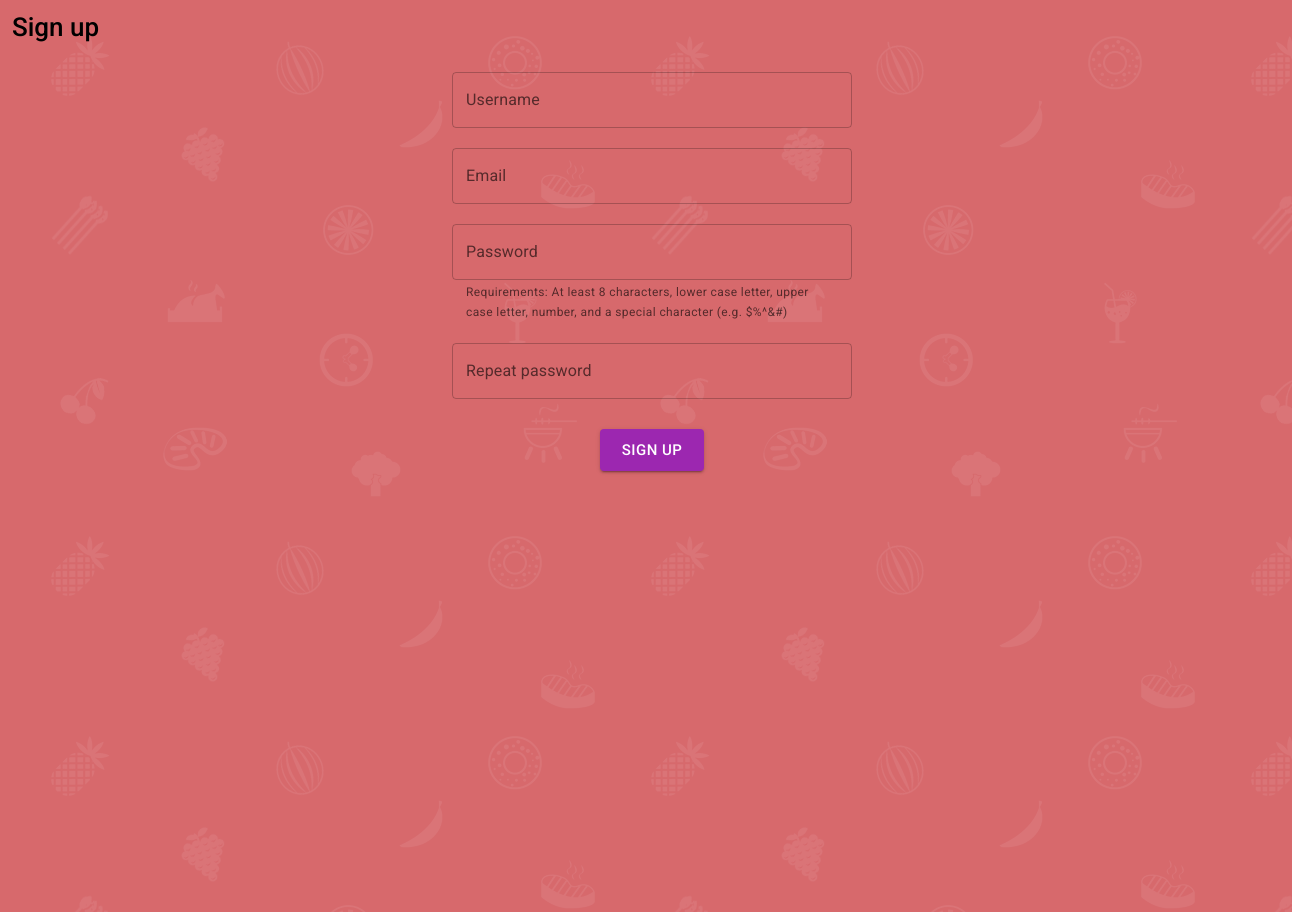
Test case: If I submit with no form values I should see required errors
This screenshot has width=1292, height=912.
Step 1. Click the button "Sign up" → (652, 450), box [600,429,704,471]
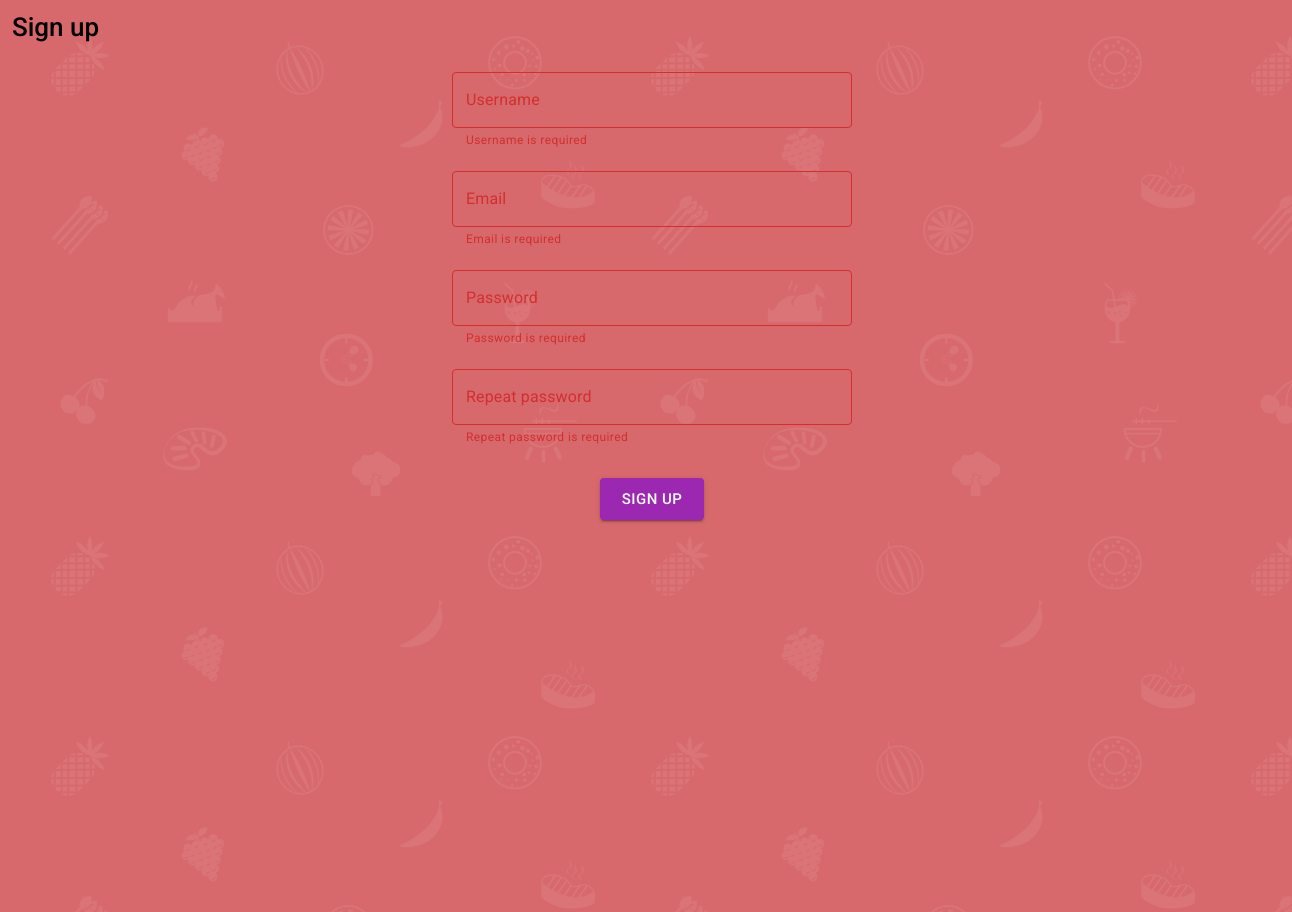
Check: the text "Username is required" is shown, box [466,133,587,147]
Check: the text "Email is required" is shown, box [466,232,561,246]
Check: the text "Password is required" is shown, box [466,331,586,345]
